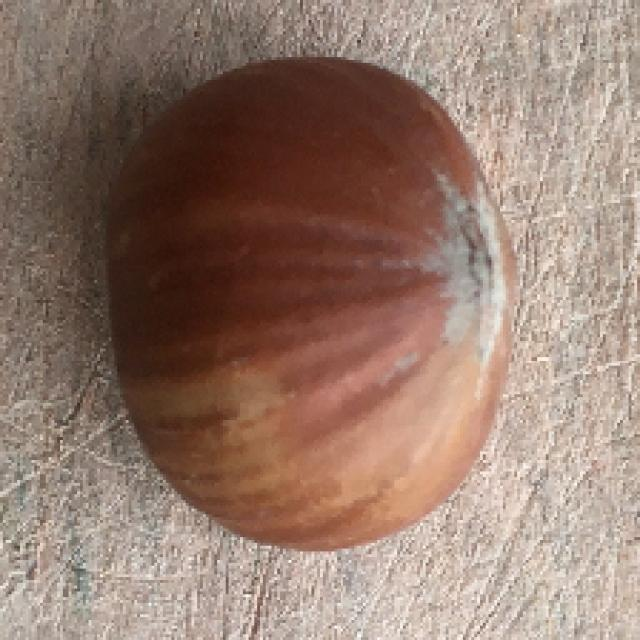DamagedHazelnut: (105, 54, 520, 551)
